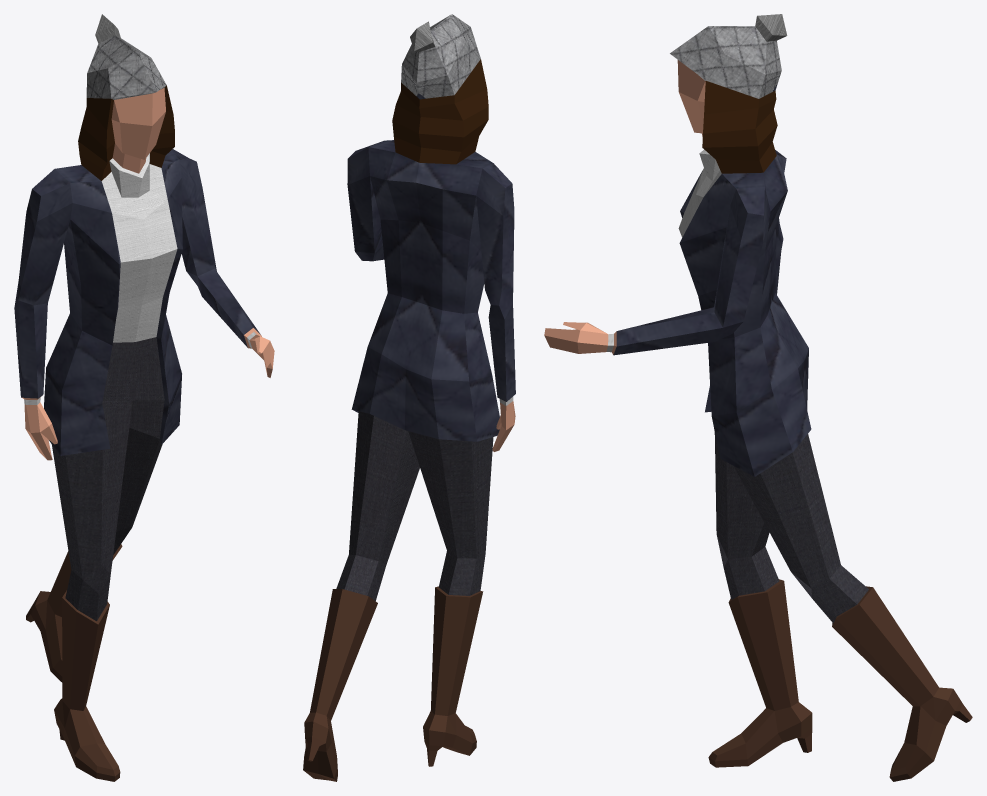
Rendered from AutumnWomanB.007.glb.
3 views of the same model, side by side, from view 1: azimuth 30°, elevation 25°; view 2: azimuth 150°, elevation 25°; view 3: azimuth 270°, elevation 25° (orthographic). The views are drawn at different scales.
Parts seen in each view (by area): view 1: AutumnWomanB.007; view 2: AutumnWomanB.007; view 3: AutumnWomanB.007.
Boxes of the visible parts, x1,y1,x2,y2 form: AutumnWomanB.007: (14, 14, 274, 781); AutumnWomanB.007: (303, 14, 515, 781); AutumnWomanB.007: (544, 14, 972, 781).
Size of the model in its own units: 0.4373 by 1.74 by 0.8866.
1 material, 1 textured.
